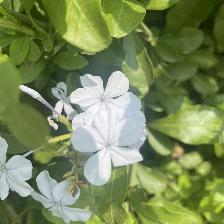chitrak: (71, 108, 147, 179), (71, 69, 133, 123), (34, 170, 94, 224), (1, 136, 34, 201)
